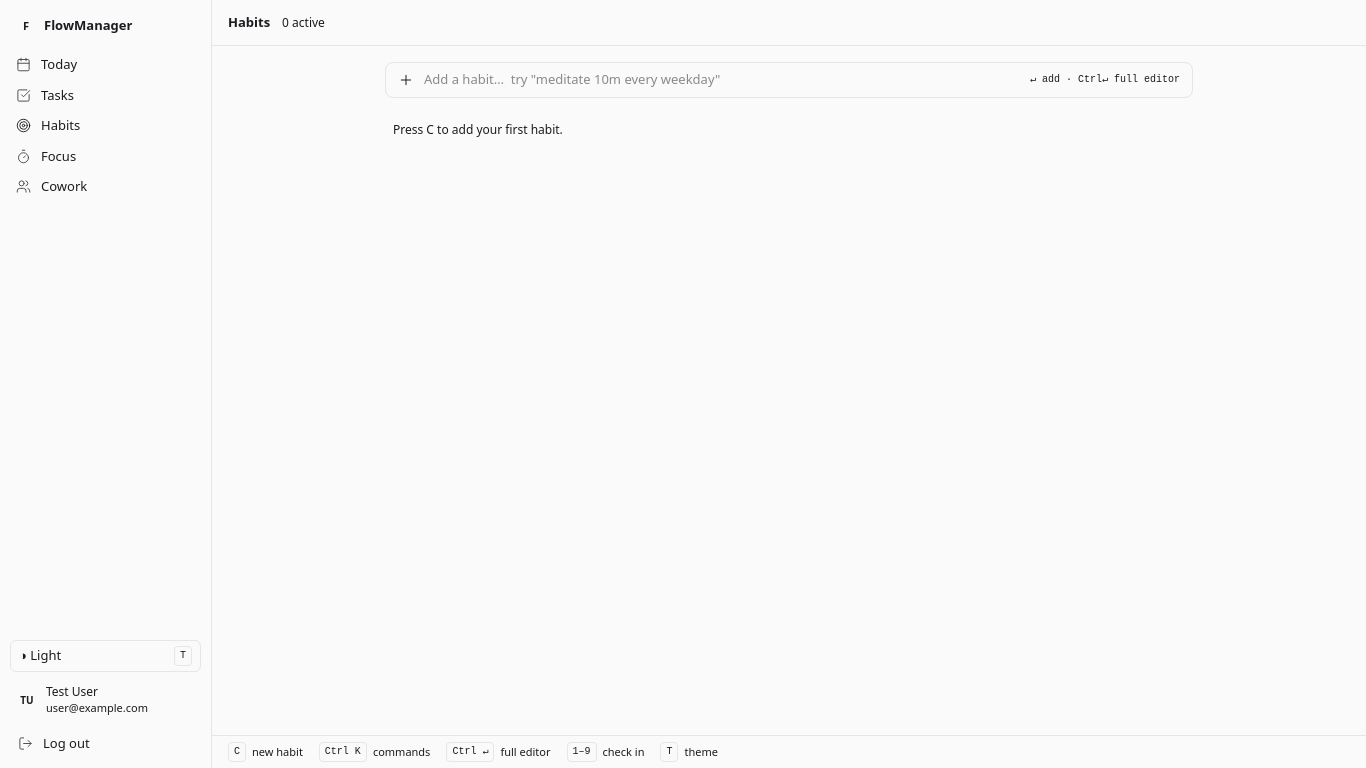
Test: HabitsPage — creation paths › ⌘↵ in the quick-add opens the full editor seeded from the draft
Step 1. Type "meditate 10m every weekday" into the field named "Quick add habit" → (722, 80), box [424,70,1020,90]
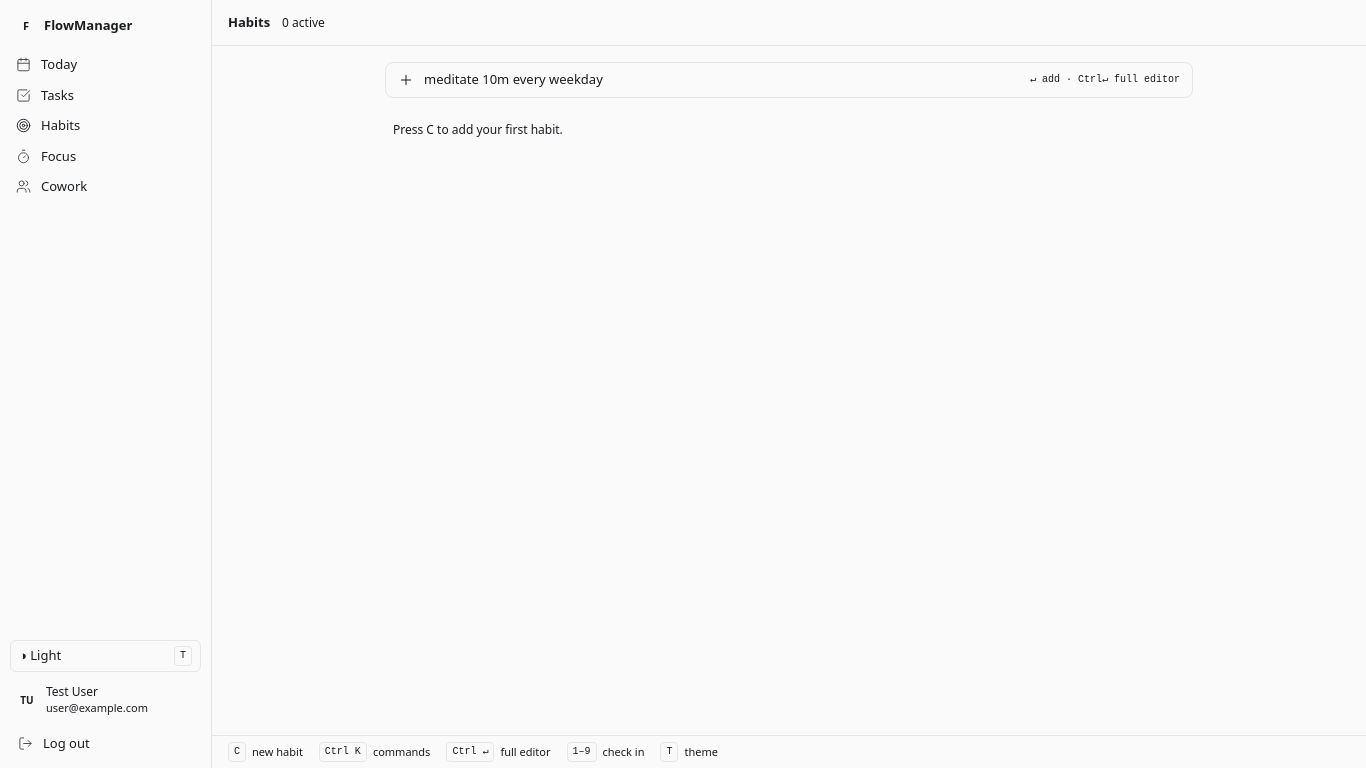
Step 2. Type keys "{Control>}{Enter}{/Control}"
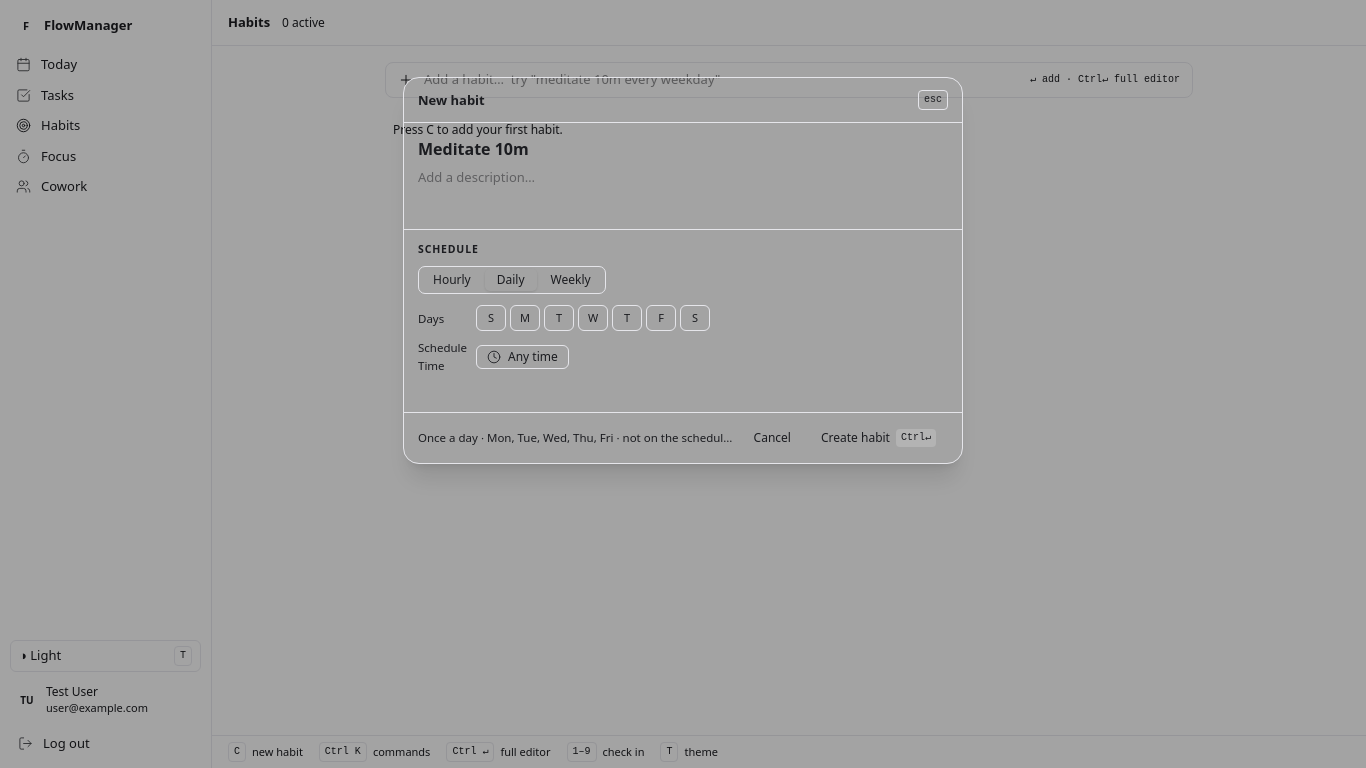
Check: the dialog is shown, box [403,77,963,464]
Check: the heading "New habit" is shown, box [418,91,485,109]
Check: the field named "Habit title" holds "Meditate 10m", box [418,137,948,161]
